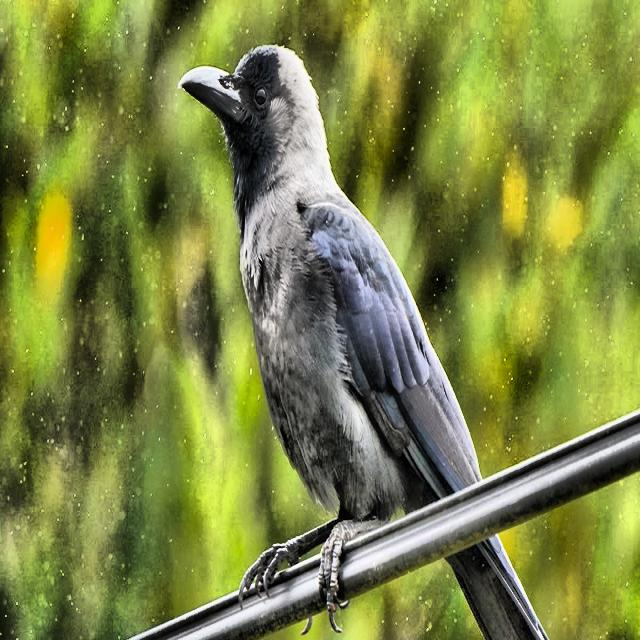crow: (158, 38, 593, 640)
